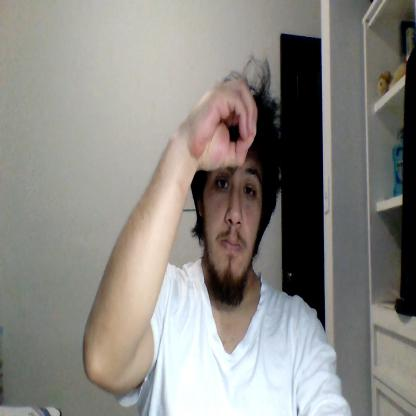O: (186, 76, 257, 170)
